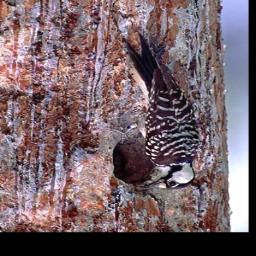Woodpecker: (124, 33, 199, 192)
